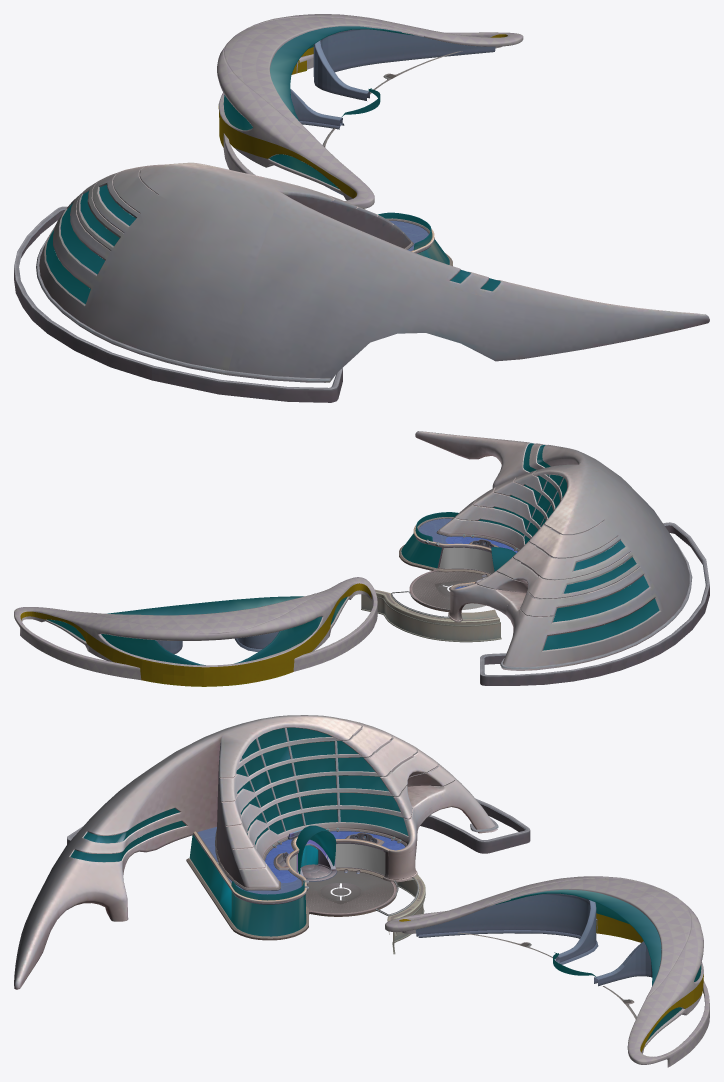
File: pref_sm_4v4pointbake_CSD_R_lv2.fbx
3 renders of one model, top to bottom at view 1: azimuth 30°, elevation 25°; view 2: azimuth 150°, elevation 25°; view 3: azimuth 270°, elevation 25°, orthographic. The views are drawn at different scales.
Parts seen in each view (by area): view 1: sm_4v4pointbake_CSD_R_i_lv2, sm_4v4pointbake_CSD_R_d_lv2, sm_4v4pointbake_CSD_R_c_lv2, sm_4v4pointbake_CSD_R_h_lv2, sm_4v4pointbake_CSD_R_b_lv2; view 2: sm_4v4pointbake_CSD_R_i_lv2, sm_4v4pointbake_CSD_R_d_lv2, sm_4v4pointbake_CSD_R_h_lv2, sm_4v4pointbake_CSD_R_c_lv2, sm_4v4pointbake_CSD_R_b_lv2, sm_4v4pointbake_CSD_R_a_lv2, sm_4v4pointbake_CSD_R_f_lv2, sm_4v4pointbake_CSD_R_g_lv2; view 3: sm_4v4pointbake_CSD_R_i_lv2, sm_4v4pointbake_CSD_R_h_lv2, sm_4v4pointbake_CSD_R_d_lv2, sm_4v4pointbake_CSD_R_c_lv2, sm_4v4pointbake_CSD_R_f_lv2, sm_4v4pointbake_CSD_R_b_lv2, sm_4v4pointbake_CSD_R_g_lv2, sm_4v4pointbake_CSD_R_a_lv2.
Part boxes in pixels (x1,y1,x2,y2): sm_4v4pointbake_CSD_R_i_lv2: [14, 162, 709, 402]; sm_4v4pointbake_CSD_R_d_lv2: [217, 14, 523, 208]; sm_4v4pointbake_CSD_R_c_lv2: [218, 29, 507, 198]; sm_4v4pointbake_CSD_R_h_lv2: [46, 185, 500, 304]; sm_4v4pointbake_CSD_R_b_lv2: [223, 26, 413, 188]; sm_4v4pointbake_CSD_R_i_lv2: [399, 431, 709, 685]; sm_4v4pointbake_CSD_R_d_lv2: [14, 577, 377, 679]; sm_4v4pointbake_CSD_R_h_lv2: [401, 443, 659, 650]; sm_4v4pointbake_CSD_R_c_lv2: [20, 583, 371, 686]; sm_4v4pointbake_CSD_R_b_lv2: [47, 596, 347, 665]; sm_4v4pointbake_CSD_R_a_lv2: [361, 589, 501, 642]; sm_4v4pointbake_CSD_R_f_lv2: [412, 571, 487, 609]; sm_4v4pointbake_CSD_R_g_lv2: [439, 547, 494, 609]; sm_4v4pointbake_CSD_R_i_lv2: [14, 715, 530, 989]; sm_4v4pointbake_CSD_R_h_lv2: [70, 727, 408, 936]; sm_4v4pointbake_CSD_R_d_lv2: [385, 876, 709, 1067]; sm_4v4pointbake_CSD_R_c_lv2: [399, 893, 703, 1052]; sm_4v4pointbake_CSD_R_f_lv2: [305, 871, 393, 913]; sm_4v4pointbake_CSD_R_b_lv2: [495, 889, 701, 1042]; sm_4v4pointbake_CSD_R_g_lv2: [289, 843, 385, 875]; sm_4v4pointbake_CSD_R_a_lv2: [375, 874, 425, 954].
Bounding box in the file's own units: 74.09 × 17.41 × 75.67.
